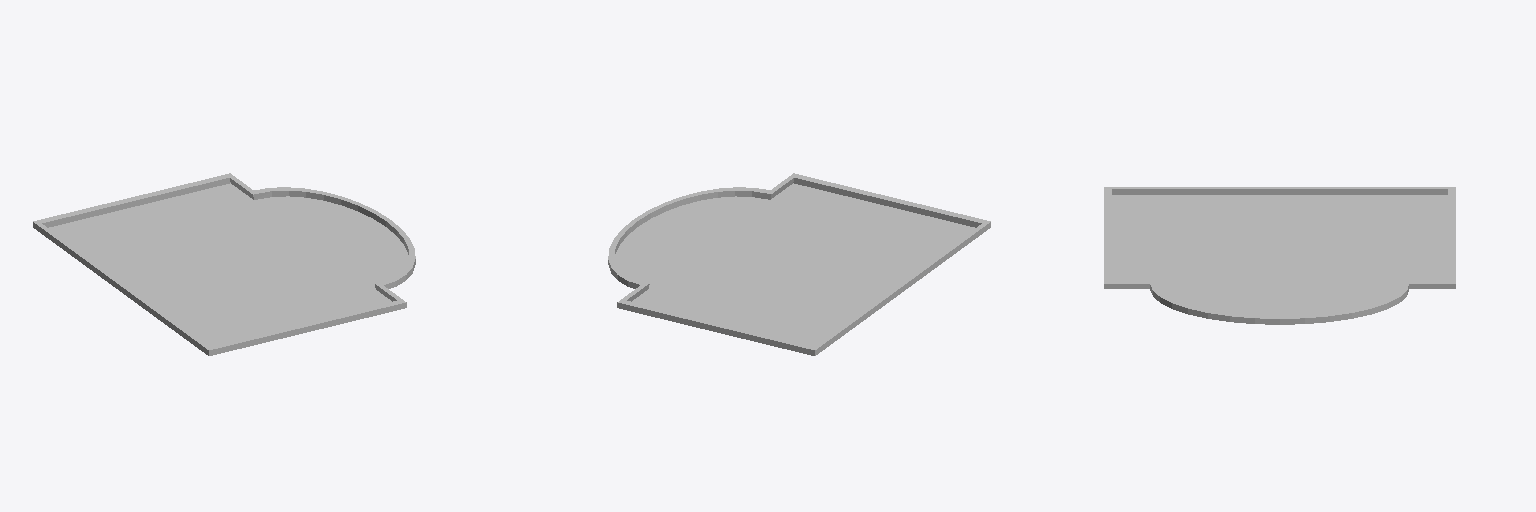
The model's file is flowerholder.obj.
3 views of the same model, side by side, from view 1: azimuth 30°, elevation 25°; view 2: azimuth 150°, elevation 25°; view 3: azimuth 270°, elevation 25° (orthographic).
Parts seen in each view (by area): view 1: Flowerholderbottom; view 2: Flowerholderbottom; view 3: Flowerholderbottom.
Boxes of the visible parts, x1,y1,x2,y2 form: Flowerholderbottom: [33, 173, 415, 355]; Flowerholderbottom: [608, 173, 990, 355]; Flowerholderbottom: [1104, 187, 1455, 324].
Size of the model in its own units: 10.26 by 0.2122 by 11.59.